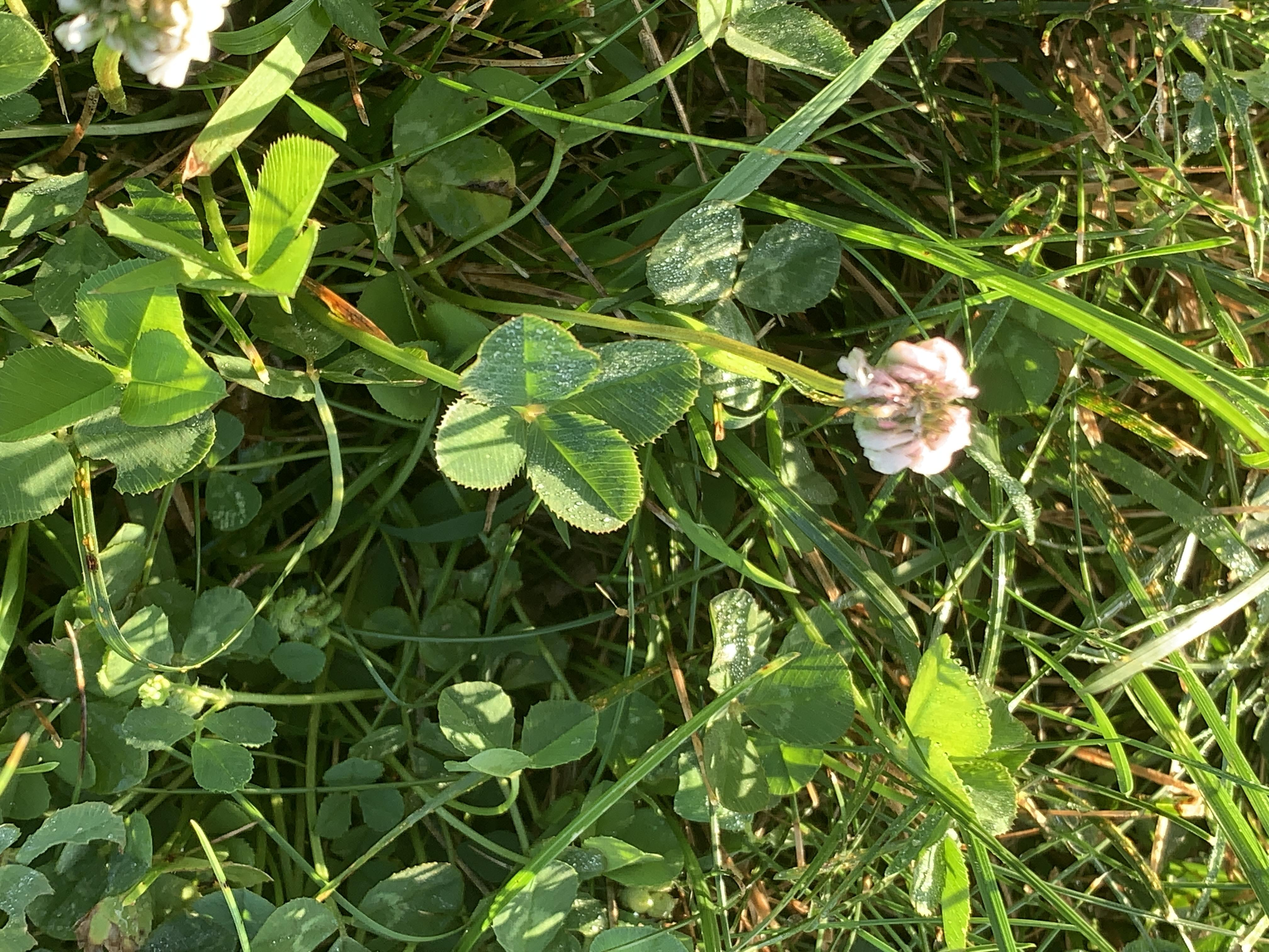4-Leaf-Clovers: (575, 417, 832, 635)
